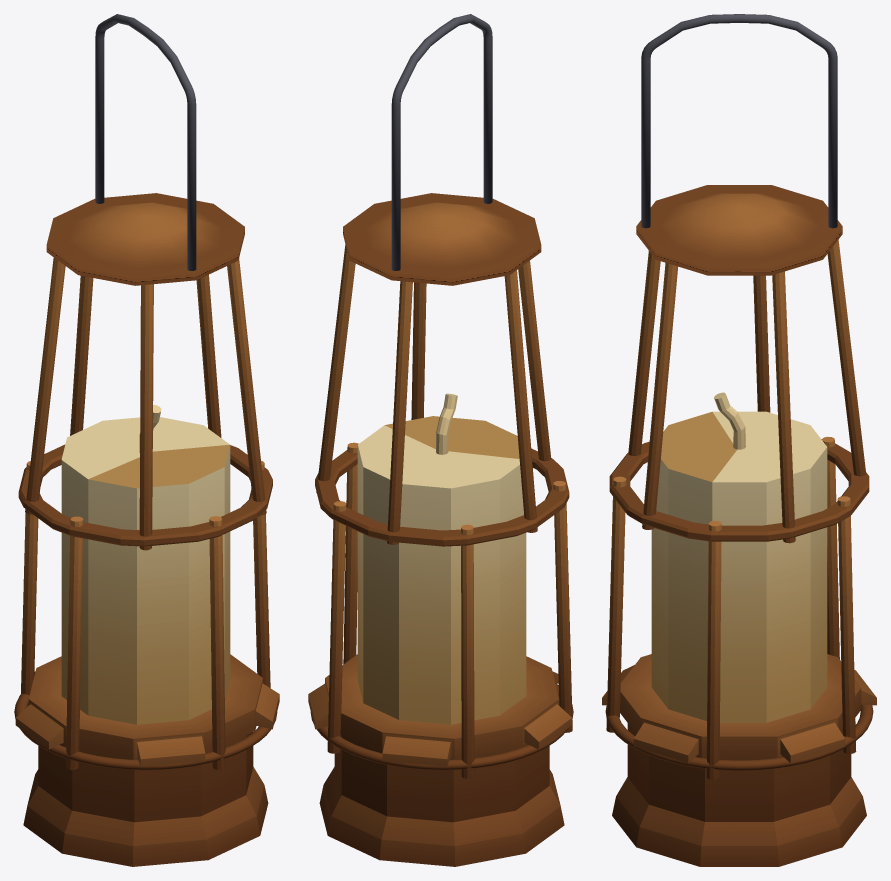
File: CandleLanternFBX.fbx
The picture shows the model from 3 angles, left to right: view 1: azimuth 30°, elevation 25°; view 2: azimuth 150°, elevation 25°; view 3: azimuth 270°, elevation 25°; orthographic projection.
Visible parts, largest first — view 1: Cylinder, Cylinder.002, Cylinder.003, Cylinder.001, Circle, BezierCircle.003, BezierCircle; view 2: Cylinder, Cylinder.002, Cylinder.003, Cylinder.001, Circle, BezierCircle.003, BezierCircle; view 3: Cylinder, Cylinder.003, Cylinder.002, Cylinder.001, Circle, BezierCircle.003, BezierCircle.
Part boxes in pixels (left/top/right/bottom): Cylinder: left=15, top=405, right=279, bottom=866; Cylinder.002: left=25, top=257, right=266, bottom=550; Cylinder.003: left=46, top=193, right=244, bottom=285; Cylinder.001: left=21, top=460, right=270, bottom=769; Circle: left=18, top=444, right=272, bottom=546; BezierCircle.003: left=95, top=14, right=196, bottom=270; BezierCircle: left=14, top=694, right=277, bottom=770; Cylinder: left=308, top=393, right=572, bottom=866; Cylinder.002: left=316, top=244, right=550, bottom=544; Cylinder.003: left=343, top=193, right=541, bottom=285; Cylinder.001: left=327, top=442, right=572, bottom=778; Circle: left=315, top=448, right=569, bottom=546; BezierCircle.003: left=391, top=14, right=492, bottom=270; BezierCircle: left=310, top=684, right=573, bottom=770; Cylinder: left=602, top=392, right=876, bottom=866; Cylinder.003: left=636, top=185, right=842, bottom=275; Cylinder.002: left=628, top=240, right=866, bottom=543; Cylinder.001: left=606, top=436, right=856, bottom=779; Circle: left=609, top=439, right=869, bottom=541; BezierCircle.003: left=641, top=14, right=837, bottom=228; BezierCircle: left=605, top=704, right=873, bottom=770.
Size of the model in its own units: 210 by 693 by 215.
